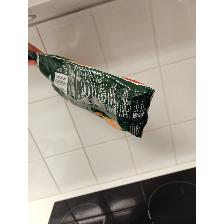Chips: (28, 48, 156, 144)
